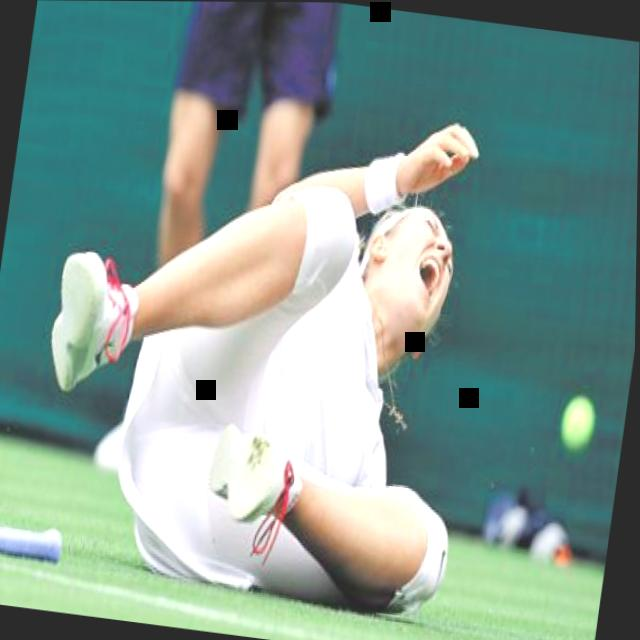Fall-Detected: (7, 39, 524, 624)
